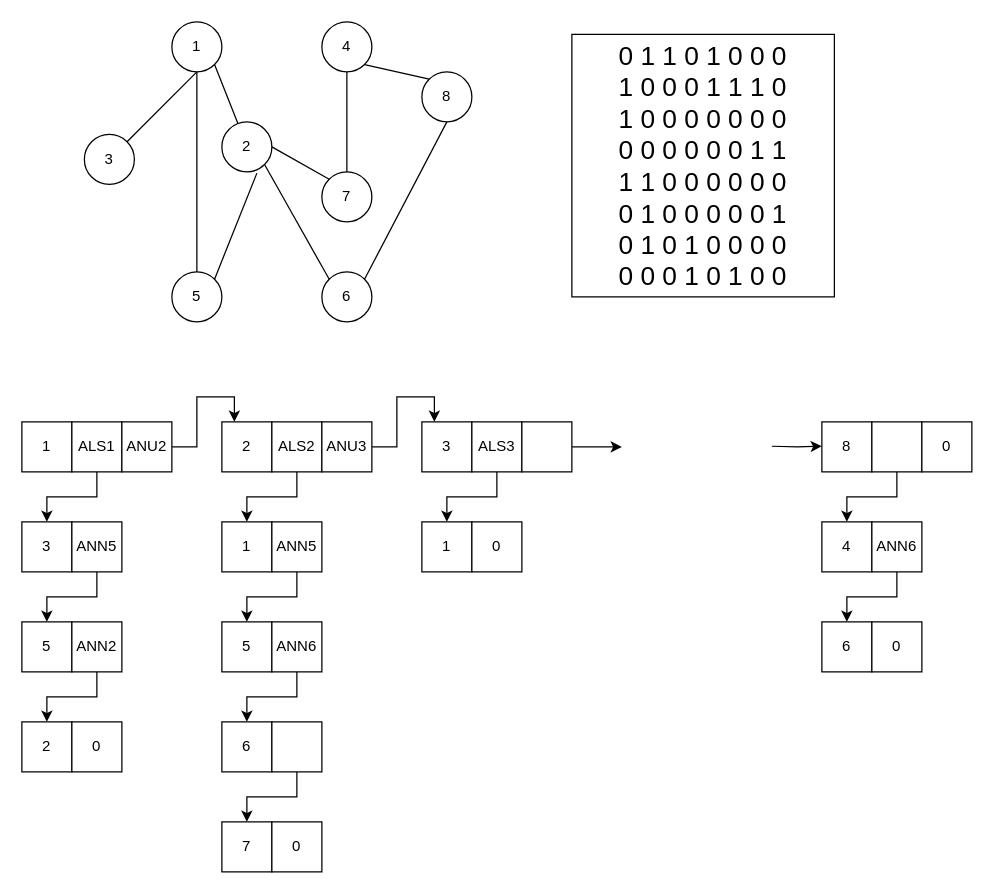
Some shapes in this 994 by 894 pixel diagram are drawn without their labels. Each missing label, with the centre of its shape:
ALS8: (896,446)
ANN7: (296,746)
ANU4: (546,446)
